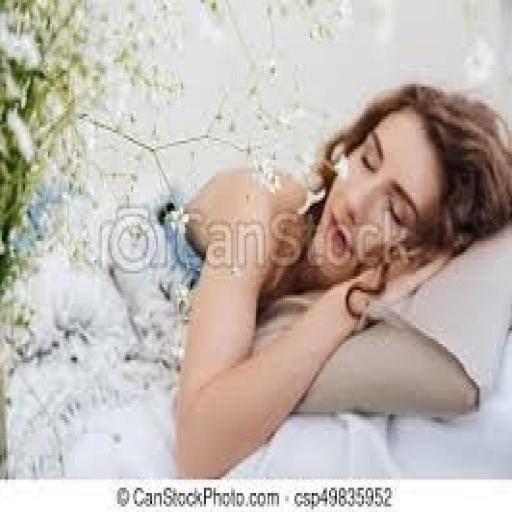sleeping: (158, 78, 510, 476)
